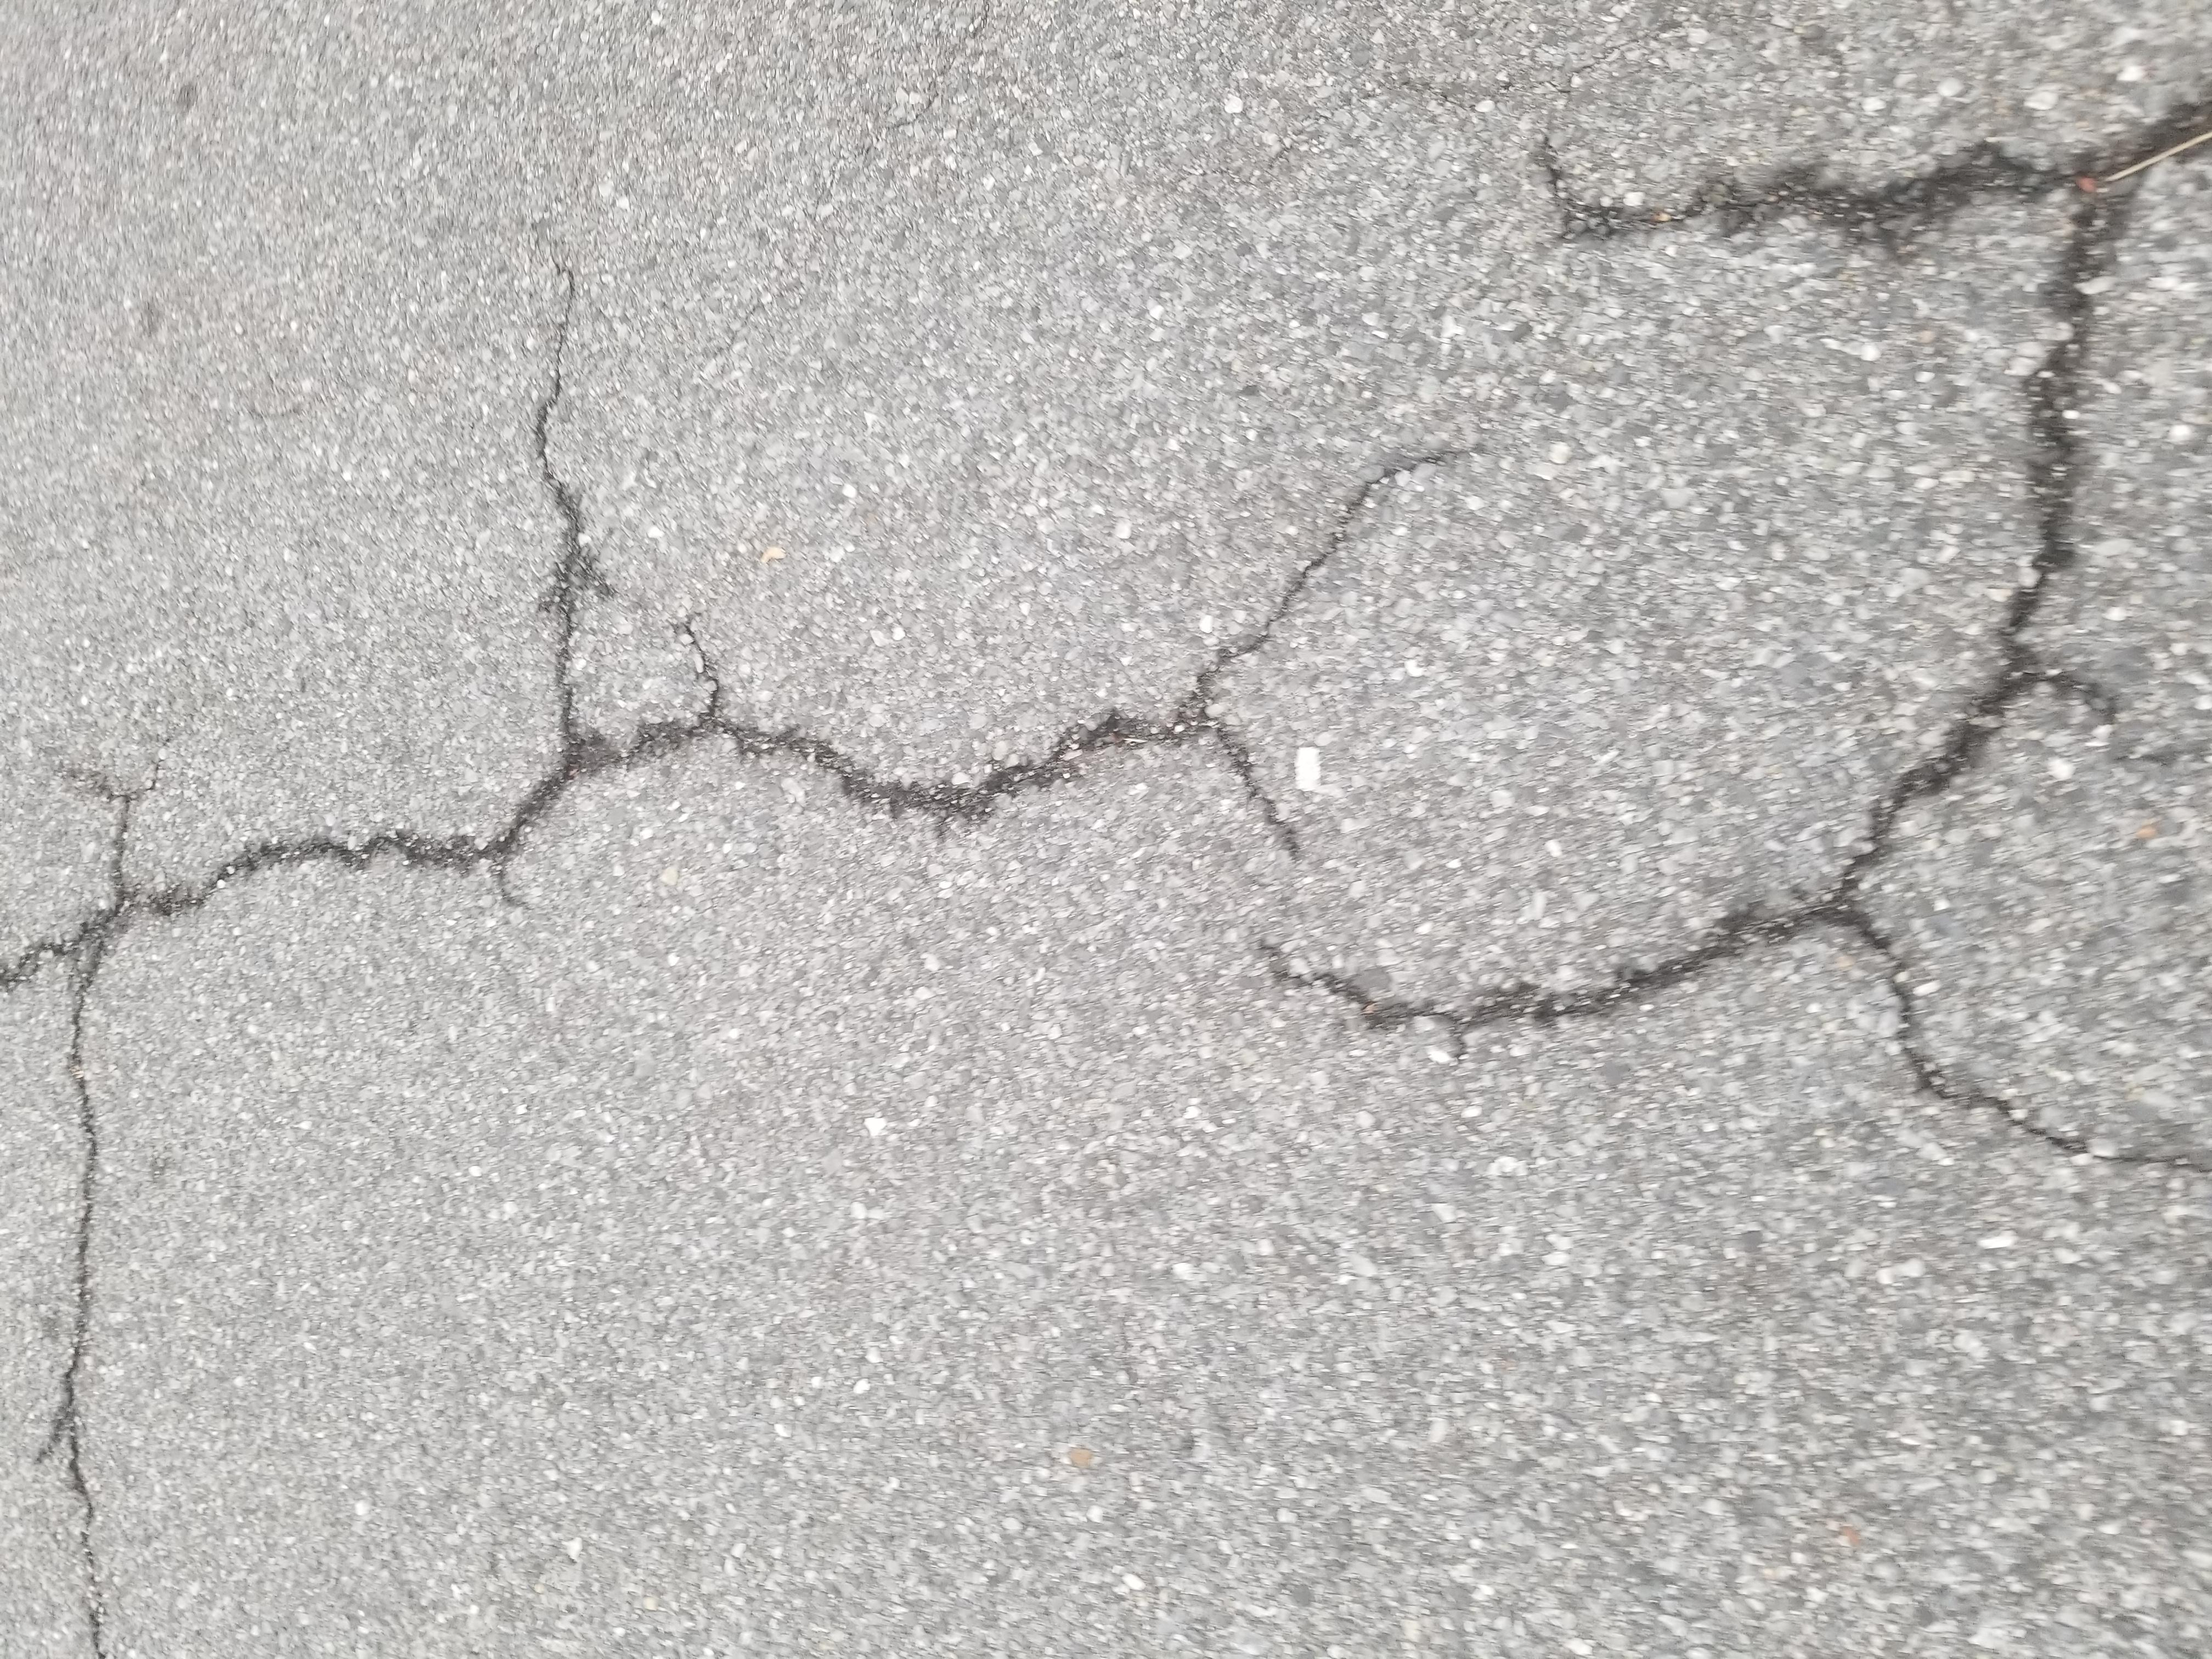crack: (1818, 1162, 2175, 1659), (1101, 446, 1393, 979), (812, 946, 1064, 1425), (948, 110, 1237, 457), (0, 24, 1204, 106), (1197, 1488, 1869, 1591), (1130, 376, 1865, 460), (644, 1425, 805, 1649), (1390, 965, 1627, 1101), (1042, 1389, 1327, 1490)
